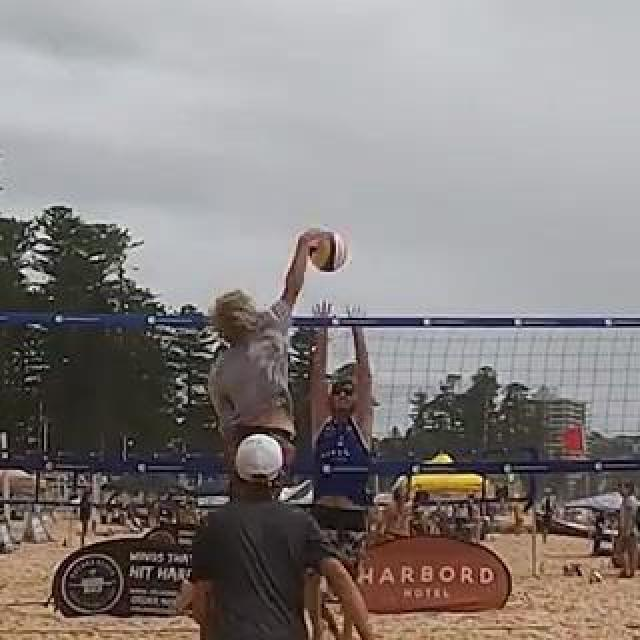volleyball: (309, 232, 347, 272), (589, 571, 603, 585)
